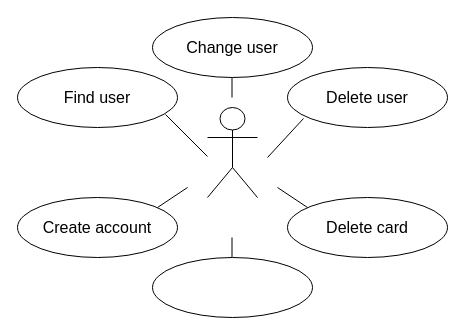
Image size: 465x335. Some labels were removed from this diagram. Each missing label, with the centre of its shape:
Admin: [232,152]
Create card: [232,287]
